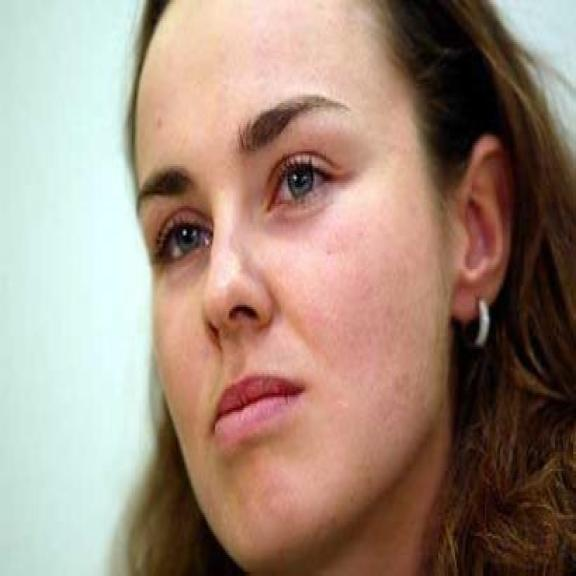face: (136, 3, 512, 570)
